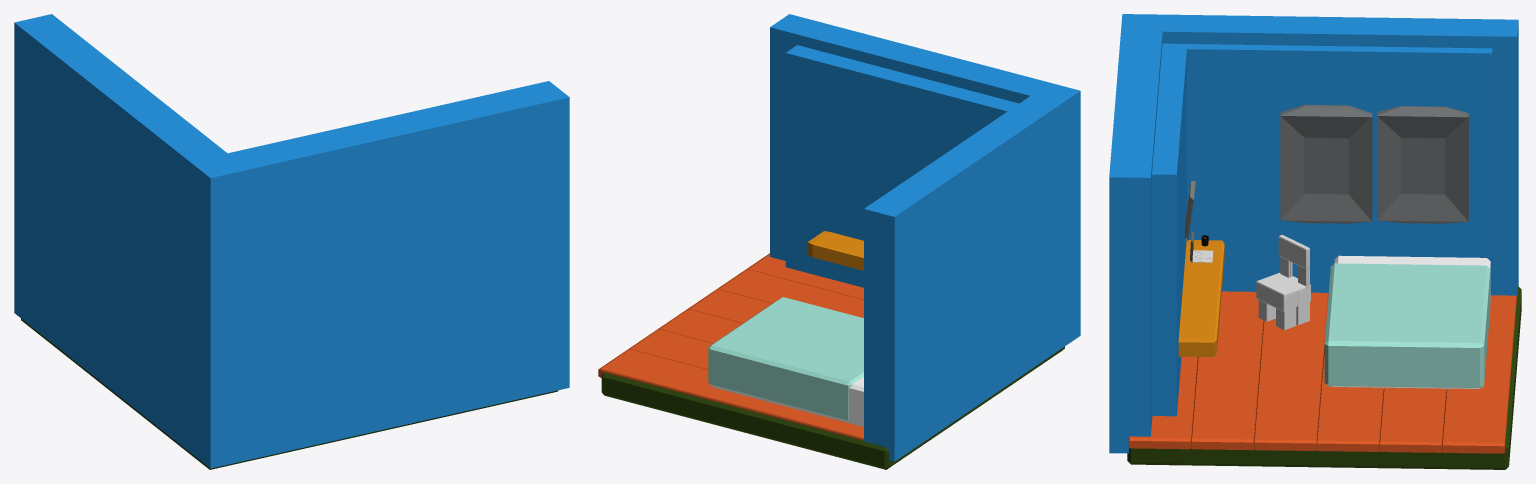
The model's file is myroom.glb.
3 views of the same model, side by side, from view 1: azimuth 30°, elevation 25°; view 2: azimuth 150°, elevation 25°; view 3: azimuth 270°, elevation 25° (orthographic). The views are drawn at different scales.
Visible parts, largest first — view 1: Cube, Plane; view 2: Cube, Plane.001, Cube.002, Plane, Cube.003, Cube.001; view 3: Cube, Plane.001, Cube.002, Cube.011, Cube.010, Plane, Cube.003, Cube.004, Cube.001.
Part boxes in pixels (left/top/right/bottom): Cube: left=14, top=14, right=569, bottom=468; Plane: left=21, top=318, right=558, bottom=469; Cube: left=770, top=14, right=1080, bottom=461; Plane.001: left=598, top=253, right=863, bottom=440; Cube.002: left=708, top=297, right=863, bottom=420; Plane: left=601, top=346, right=1064, bottom=469; Cube.003: left=807, top=231, right=863, bottom=270; Cube.001: left=711, top=376, right=863, bottom=426; Cube: left=1109, top=14, right=1518, bottom=453; Plane.001: left=1128, top=291, right=1516, bottom=453; Cube.002: left=1324, top=263, right=1490, bottom=388; Cube.011: left=1280, top=104, right=1372, bottom=223; Cube.010: left=1377, top=106, right=1468, bottom=223; Plane: left=1127, top=286, right=1521, bottom=469; Cube.003: left=1178, top=240, right=1224, bottom=356; Cube.004: left=1256, top=234, right=1310, bottom=330; Cube.001: left=1331, top=255, right=1490, bottom=389.
Size of what is drawn, in the model's own units: 2.13 by 1.66 by 2.16.
